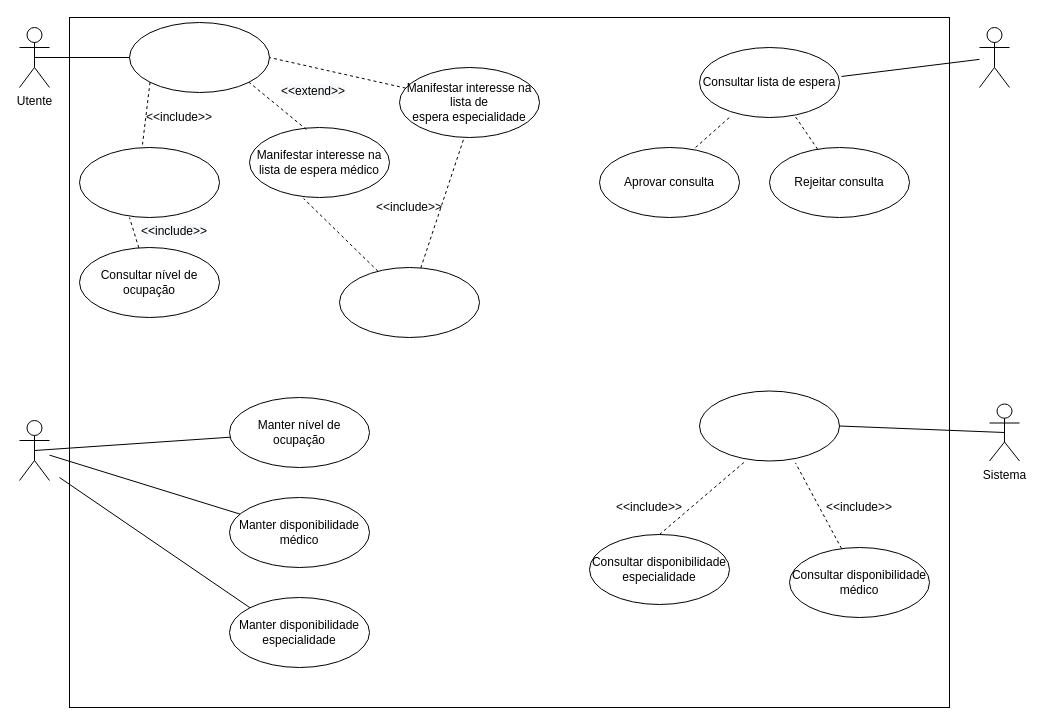
This 1046x725 diagram has some shape labels left out. Each missing label, with the box of its shape:
Adm: (18, 420, 50, 480)
Enviar notificação lista de espera: (338, 266, 480, 338)
Listar vagas: (78, 146, 220, 218)
Manter calendário: (698, 390, 840, 461)
Marcar consulta: (128, 22, 270, 92)
Responsável unidade: (978, 26, 1010, 88)
